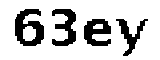3: (49, 7, 78, 50)
6: (12, 7, 46, 52)
e: (82, 18, 114, 50)
y: (114, 15, 151, 57)
